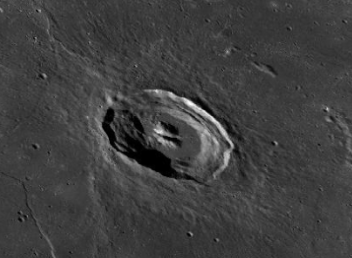crater: (72, 78, 277, 218)
